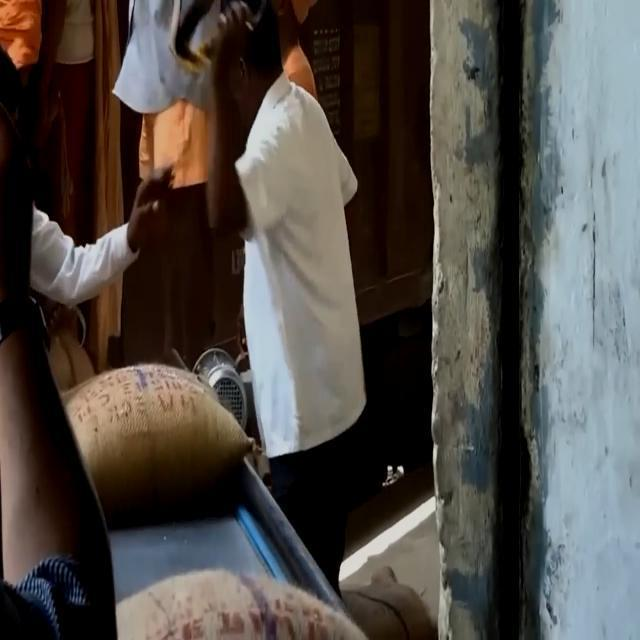gunny_bag: (58, 368, 258, 523), (117, 570, 362, 640)
